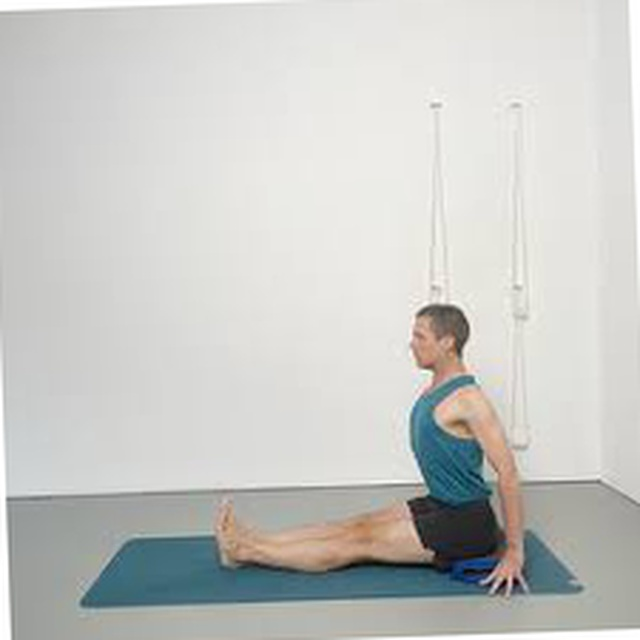Staff_Pose: (215, 304, 534, 600)
